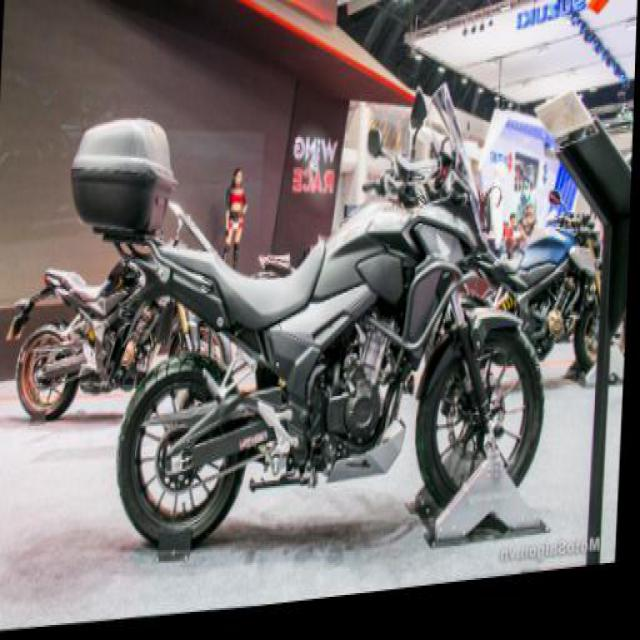CB500X: (112, 70, 562, 568)
